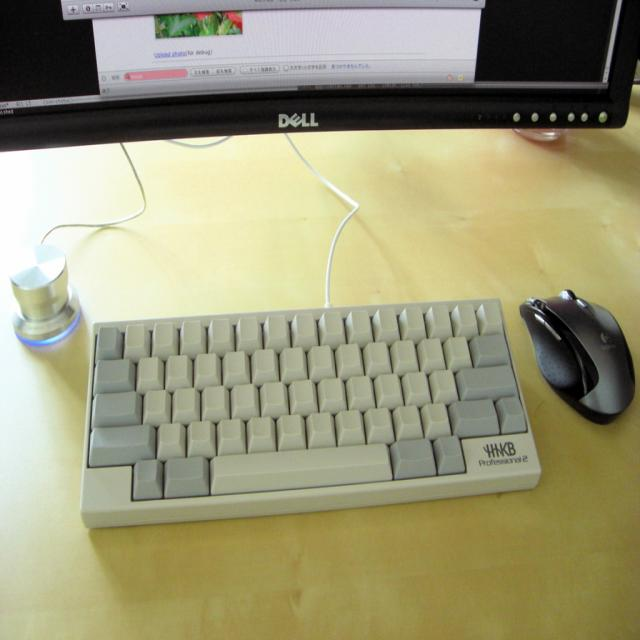Computer-mouse: (518, 286, 634, 425)
